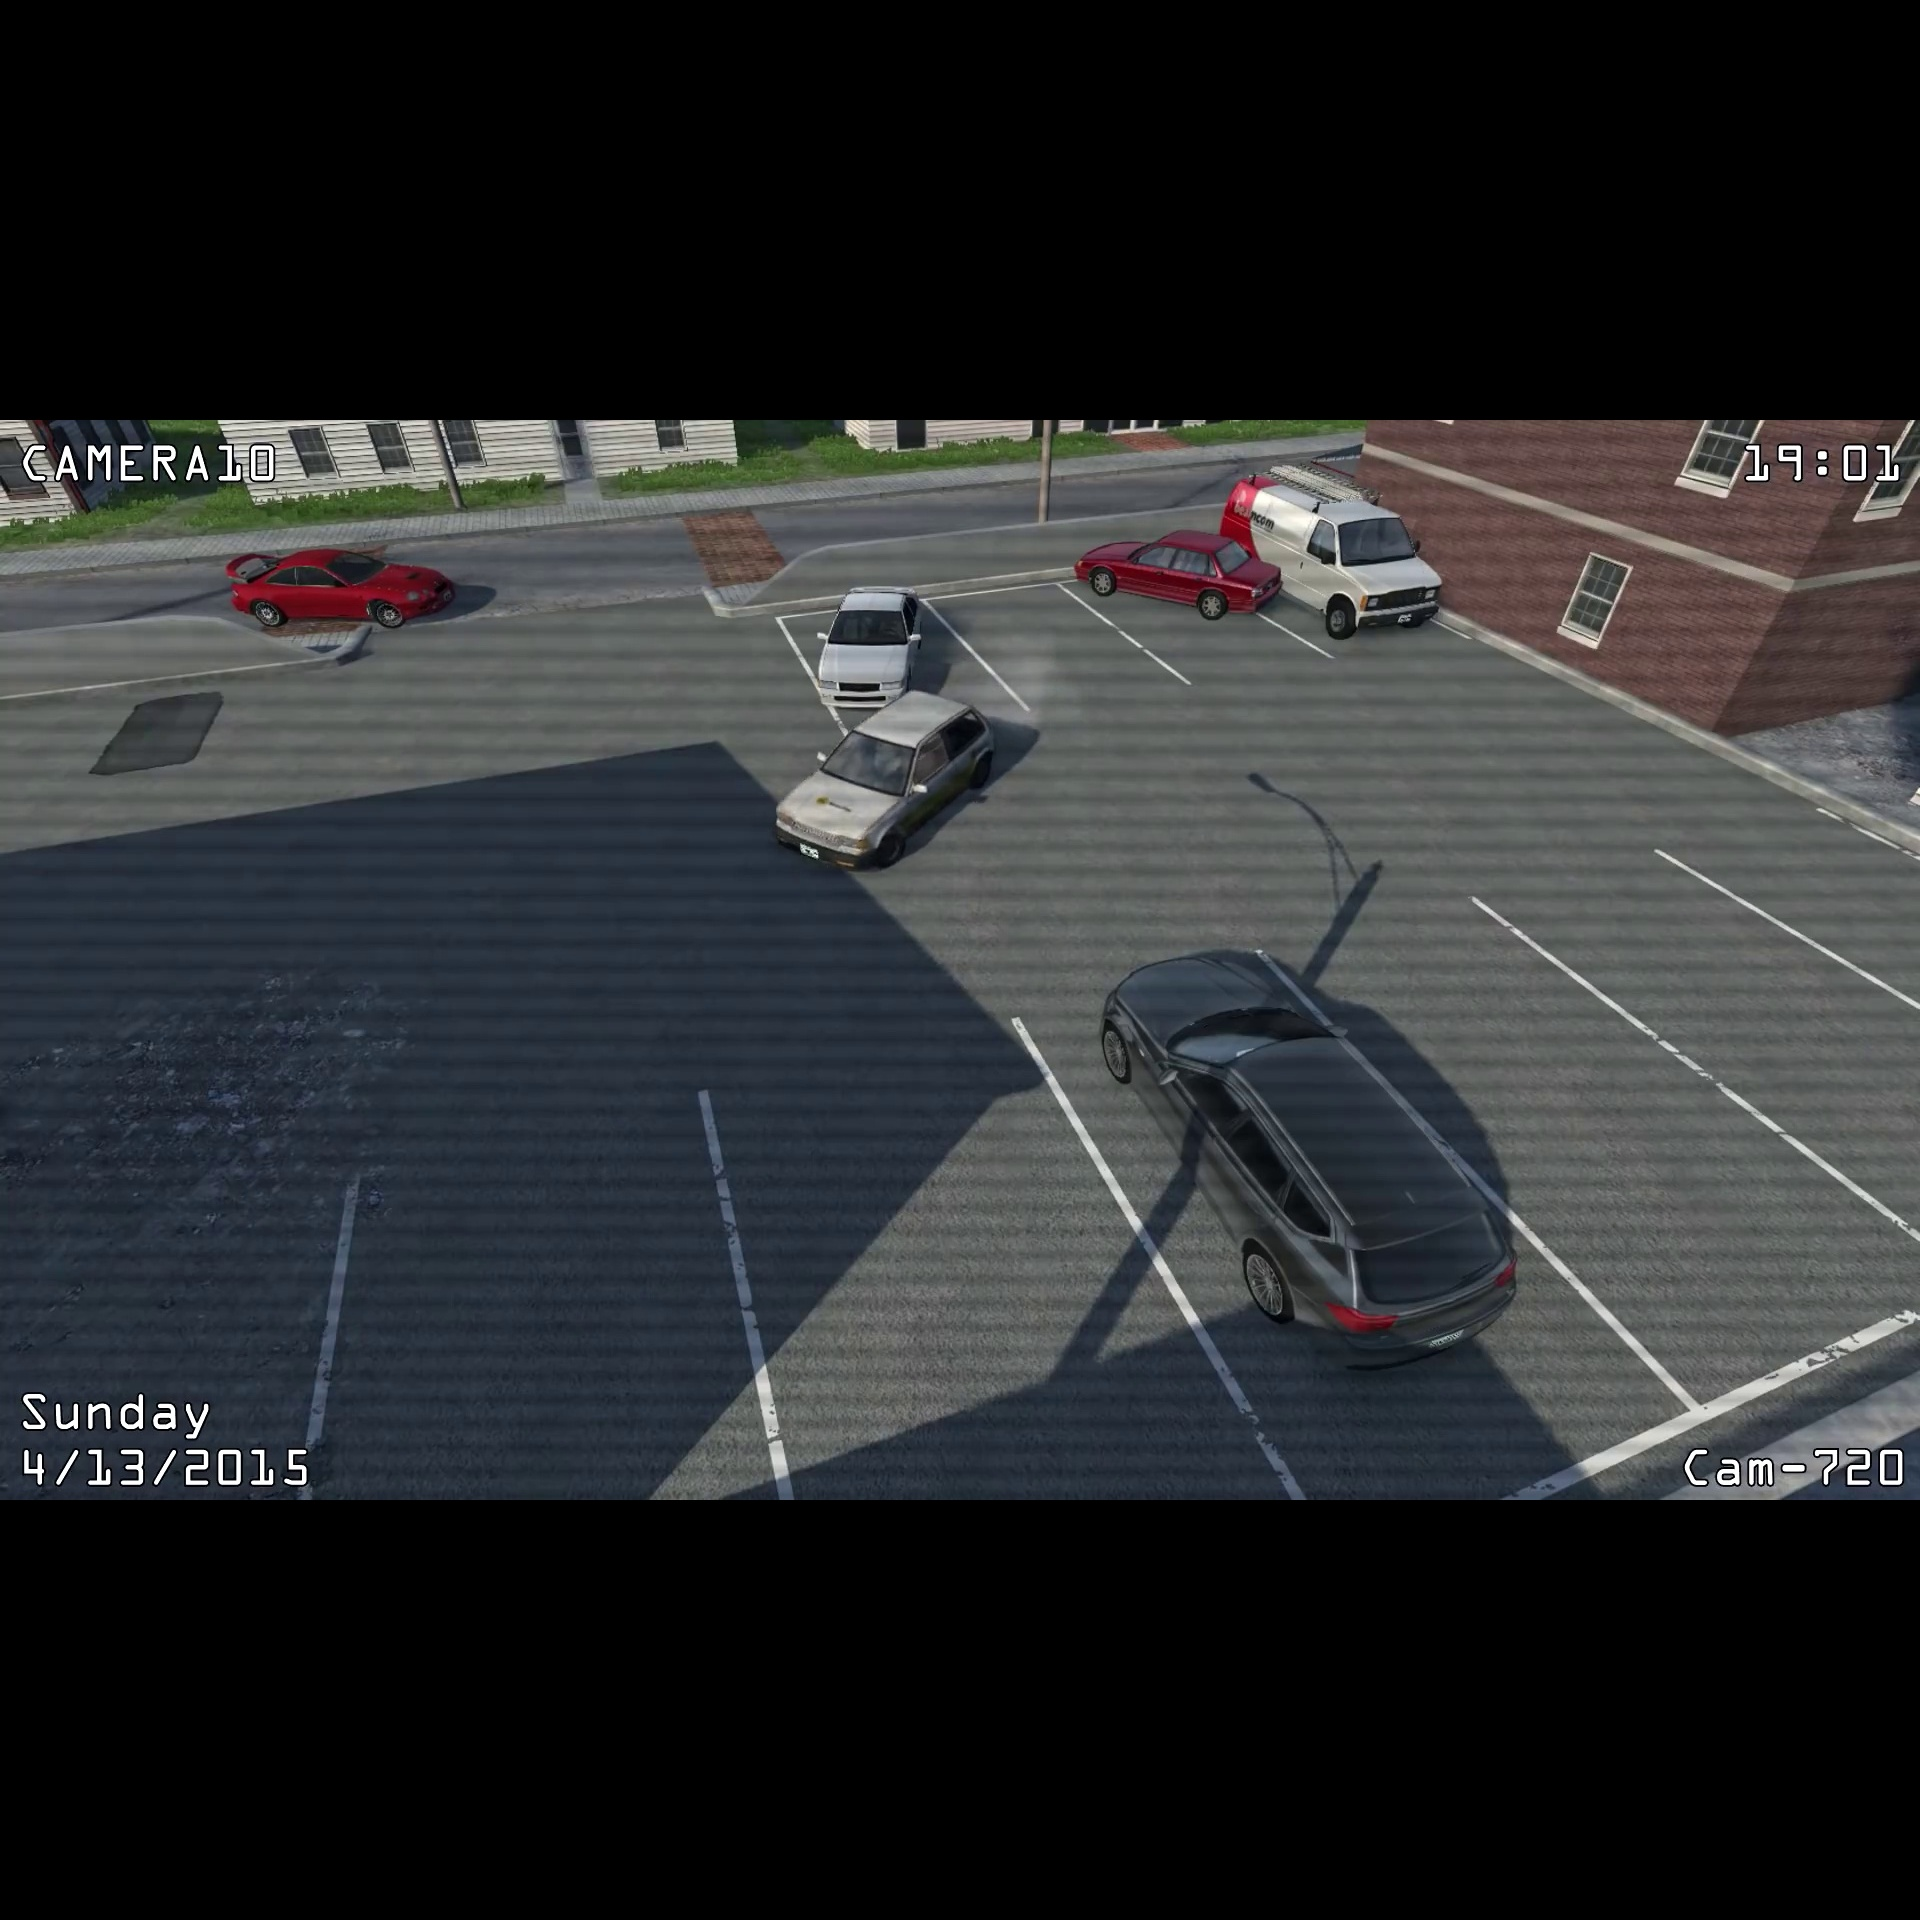vehicle: (1087, 935, 1528, 1377), (767, 682, 1000, 874), (1211, 457, 1447, 645), (216, 542, 459, 636), (1069, 527, 1289, 628), (811, 577, 928, 714)
